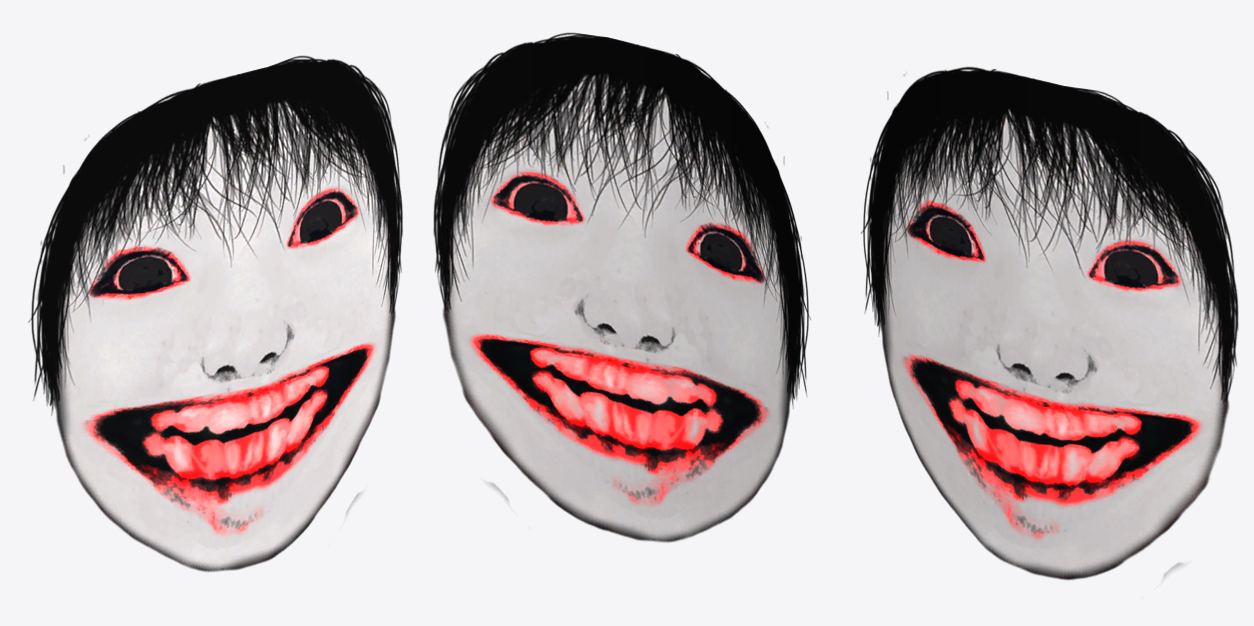
File: death_forest_-_yoshie.glb
The picture shows the model from 3 angles, left to right: view 1: azimuth 30°, elevation 25°; view 2: azimuth 150°, elevation 25°; view 3: azimuth 330°, elevation 25°; orthographic projection.
Visible parts, largest first — view 1: Cube; view 2: Cube; view 3: Cube.
Part boxes in pixels (x1,y1,x2,y2): Cube: (28,55,402,571); Cube: (433,32,810,542); Cube: (861,67,1238,579).
Size of the model in its own units: 1.62 by 2 by 0.1452.
1 material, 1 textured.
